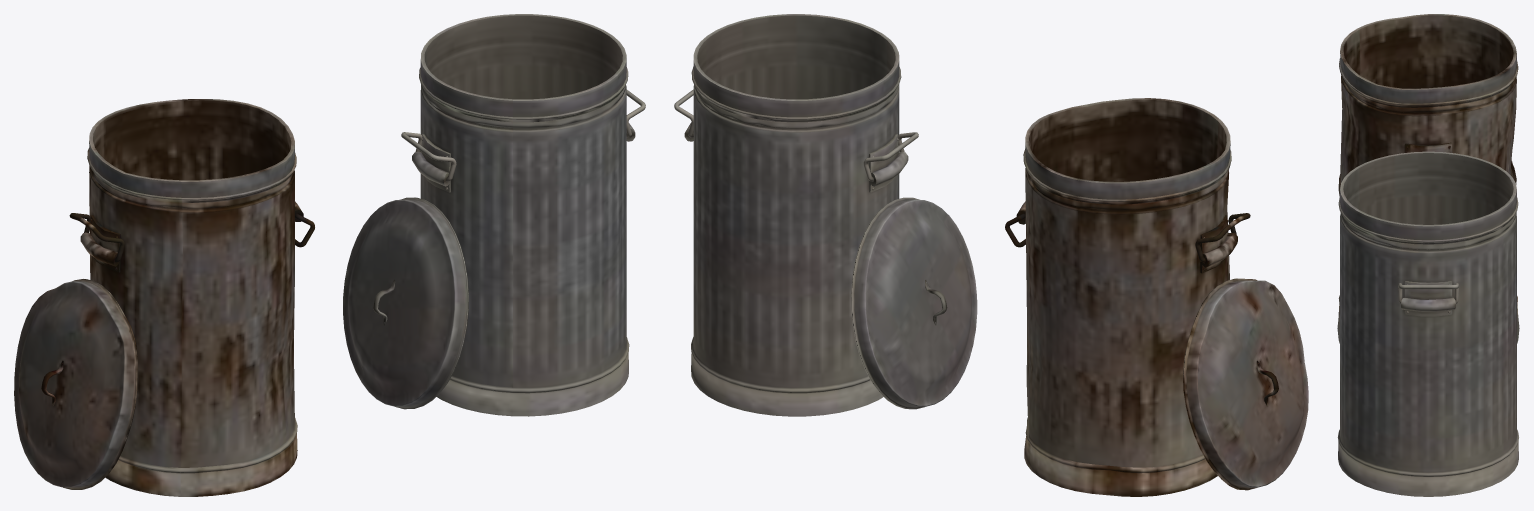
The model's file is metal_trash_can.glb.
3 renders of one model, left to right at view 1: azimuth 30°, elevation 25°; view 2: azimuth 150°, elevation 25°; view 3: azimuth 270°, elevation 25°, orthographic. The views are drawn at different scales.
Visible parts, largest first — view 1: metal_trash_can, metal_trash_can_rust, metal_trash_can_lid, metal_trash_can_rust_lid; view 2: metal_trash_can, metal_trash_can_rust, metal_trash_can_lid, metal_trash_can_rust_lid; view 3: metal_trash_can, metal_trash_can_rust, metal_trash_can_handle_right.
Part boxes in pixels (x1,y1,x2,y2): metal_trash_can: (412, 14, 635, 416); metal_trash_can_rust: (80, 99, 303, 496); metal_trash_can_lid: (343, 197, 468, 409); metal_trash_can_rust_lid: (14, 279, 137, 489); metal_trash_can: (684, 14, 908, 416); metal_trash_can_rust: (1016, 98, 1237, 496); metal_trash_can_lid: (851, 197, 977, 409); metal_trash_can_rust_lid: (1183, 278, 1308, 490); metal_trash_can: (1337, 151, 1518, 496); metal_trash_can_rust: (1338, 14, 1518, 316); metal_trash_can_handle_right: (1398, 283, 1458, 303).
Size of the model in its own units: 1.78 by 0.9062 by 0.5543.
2 materials, 2 textured.
